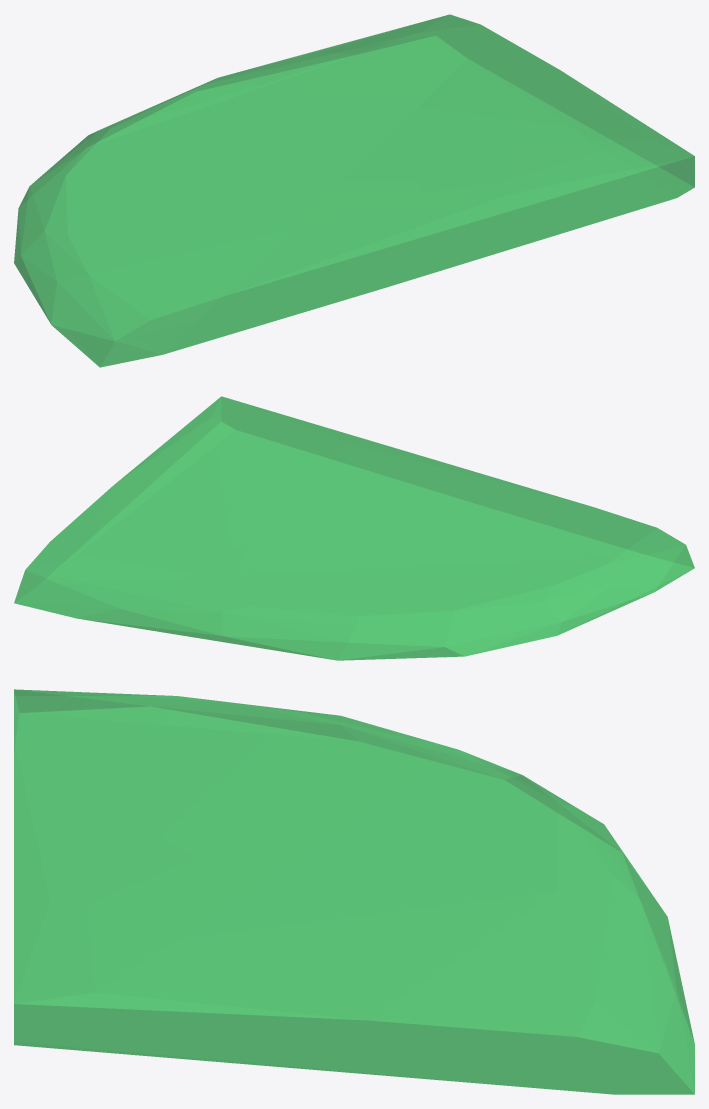
3 renders of one model, top to bottom at view 1: azimuth 30°, elevation 25°; view 2: azimuth 150°, elevation 25°; view 3: azimuth 270°, elevation 25°, orthographic. The views are drawn at different scales.
Parts seen in each view (by area): view 1: Shape_IndexedFaceSet.001_Shape_IndexedFaceSet.2962; view 2: Shape_IndexedFaceSet.001_Shape_IndexedFaceSet.2962; view 3: Shape_IndexedFaceSet.001_Shape_IndexedFaceSet.2962.
Boxes of the visible parts, x1,y1,x2,y2 form: Shape_IndexedFaceSet.001_Shape_IndexedFaceSet.2962: (14, 14, 694, 367); Shape_IndexedFaceSet.001_Shape_IndexedFaceSet.2962: (14, 396, 694, 660); Shape_IndexedFaceSet.001_Shape_IndexedFaceSet.2962: (14, 689, 694, 1094).
Size of the model in its own units: 0.2319 by 0.0257 by 0.1753.
